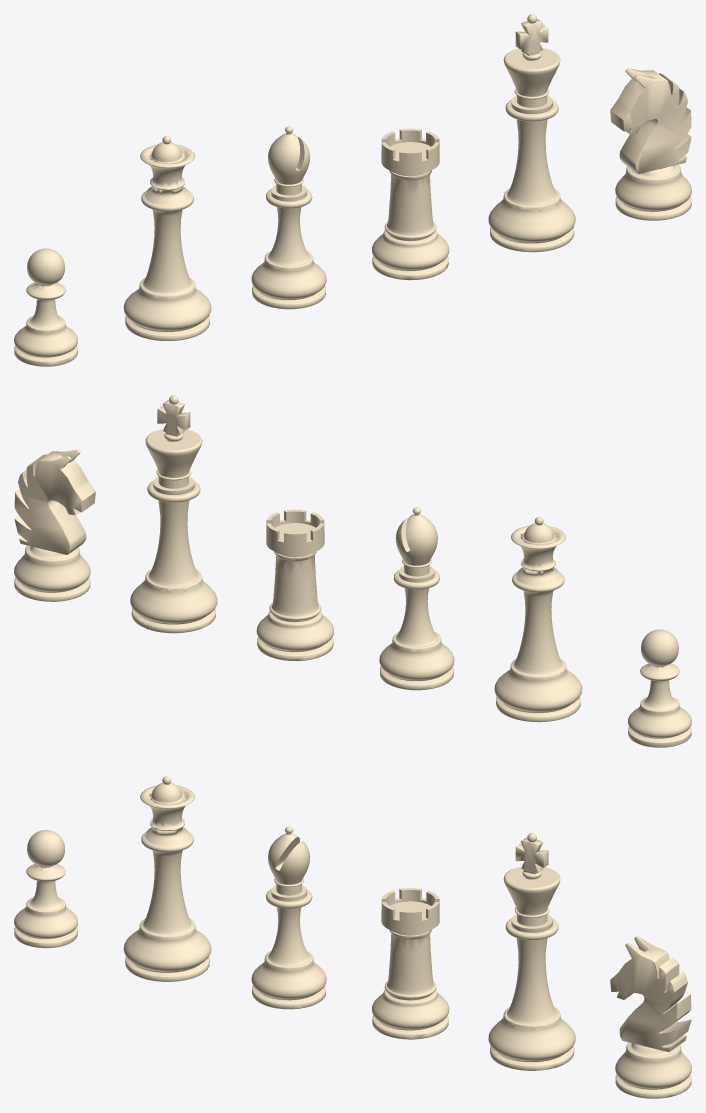
The model's file is chess.glb.
The picture shows the model from 3 angles, top to bottom: view 1: azimuth 30°, elevation 25°; view 2: azimuth 150°, elevation 25°; view 3: azimuth 330°, elevation 25°; orthographic projection.
Parts seen in each view (by area): view 1: King, Knight, Queen, Rook, Bishop, Pawn; view 2: King, Knight, Queen, Rook, Bishop, Pawn; view 3: King, Queen, Knight, Rook, Bishop, Pawn.
Boxes of the visible parts, left/top/right/bottom form: King: left=488, top=14, right=575, bottom=252; Knight: left=610, top=68, right=691, bottom=220; Queen: left=123, top=136, right=211, bottom=340; Rook: left=372, top=128, right=449, bottom=280; Bishop: left=251, top=126, right=326, bottom=309; Pawn: left=14, top=248, right=77, bottom=366; King: left=130, top=395, right=217, bottom=633; Knight: left=14, top=449, right=95, bottom=601; Queen: left=494, top=517, right=582, bottom=722; Rook: left=256, top=509, right=333, bottom=661; Bishop: left=379, top=507, right=454, bottom=690; Pawn: left=628, top=629, right=691, bottom=747; King: left=488, top=833, right=575, bottom=1070; Queen: left=123, top=776, right=211, bottom=981; Knight: left=610, top=936, right=691, bottom=1098; Rook: left=372, top=888, right=449, bottom=1039; Bishop: left=251, top=826, right=326, bottom=1009; Pawn: left=14, top=830, right=77, bottom=948.
Size of the model in its own units: 0.2752 by 0.0872 by 0.0313.
